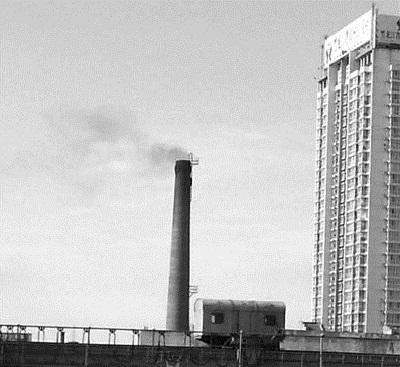dust: (120, 127, 196, 168)
